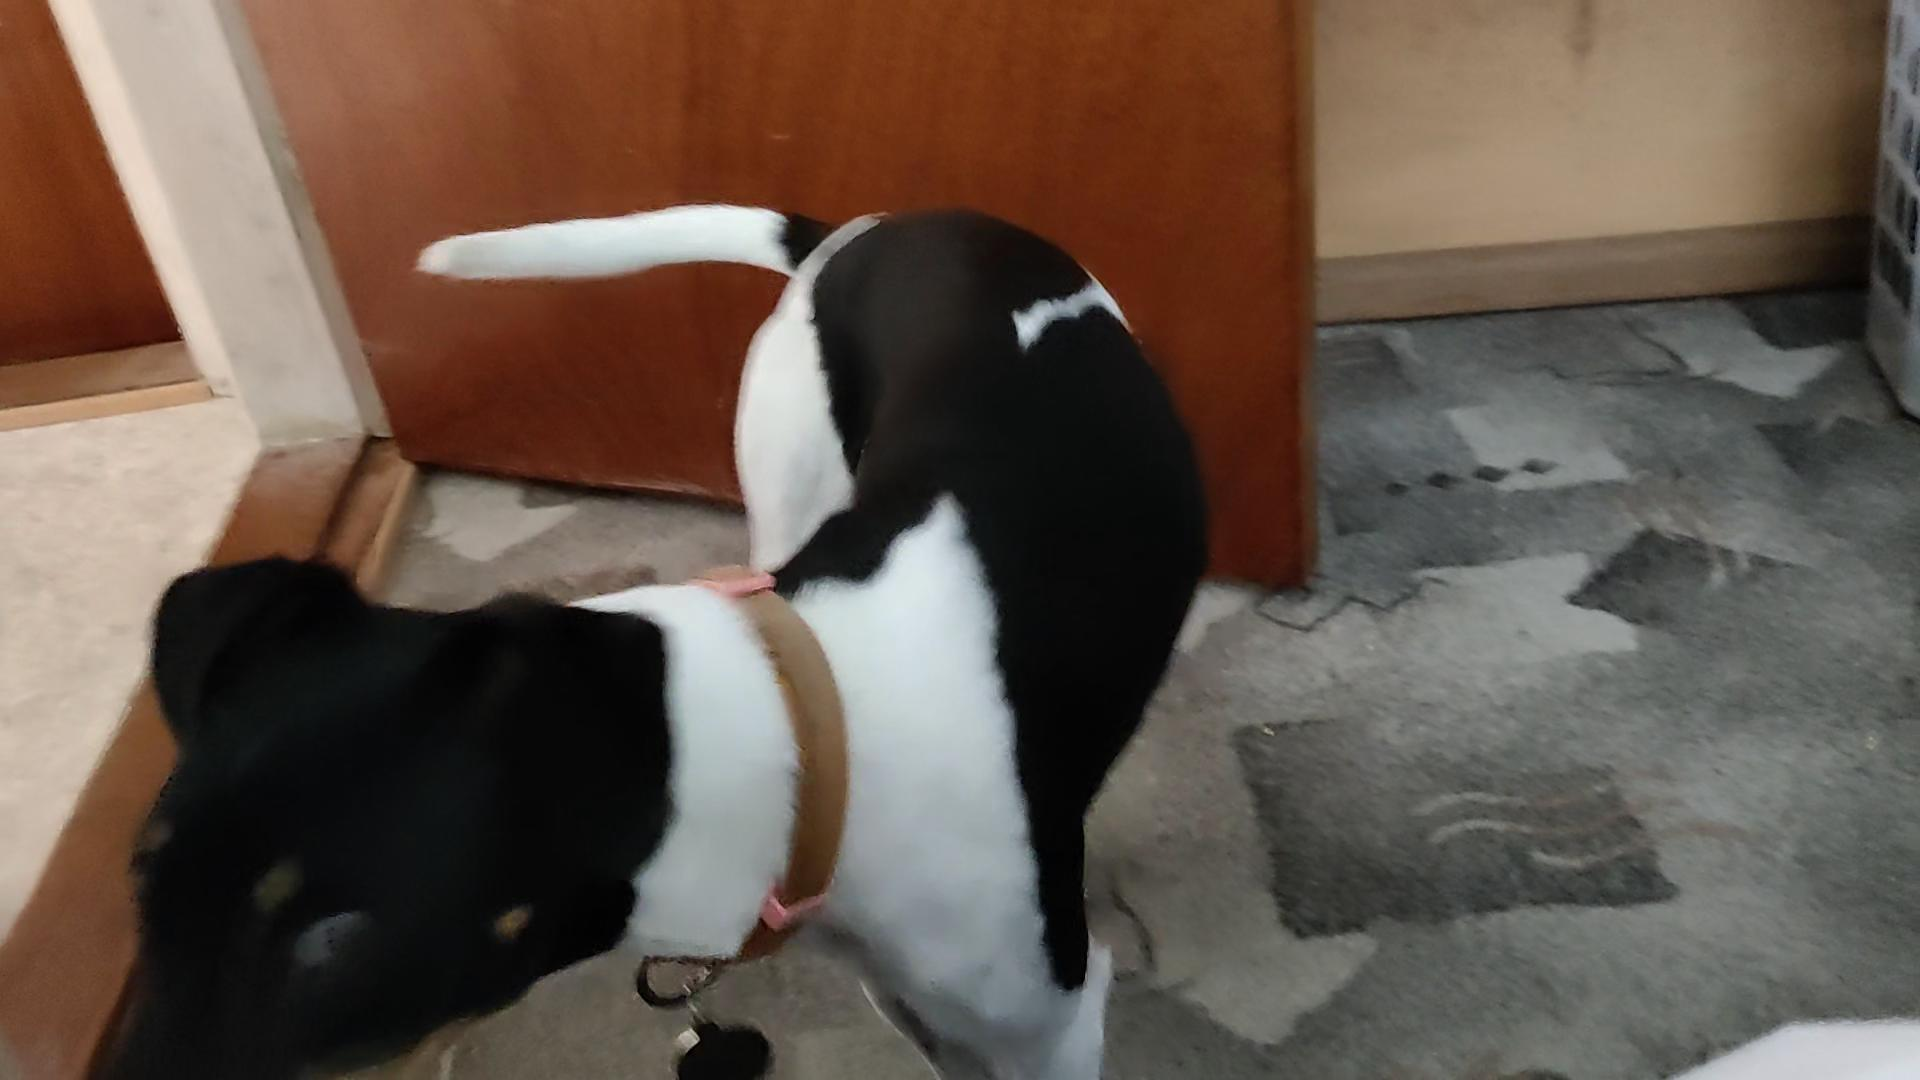Dog: (75, 164, 1240, 1079)
